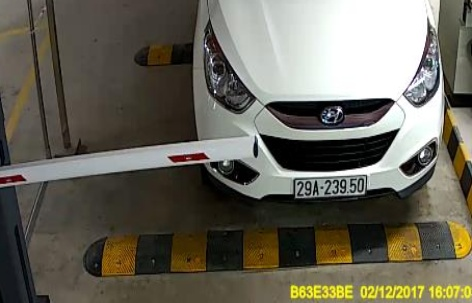plate: (291, 175, 366, 198)
